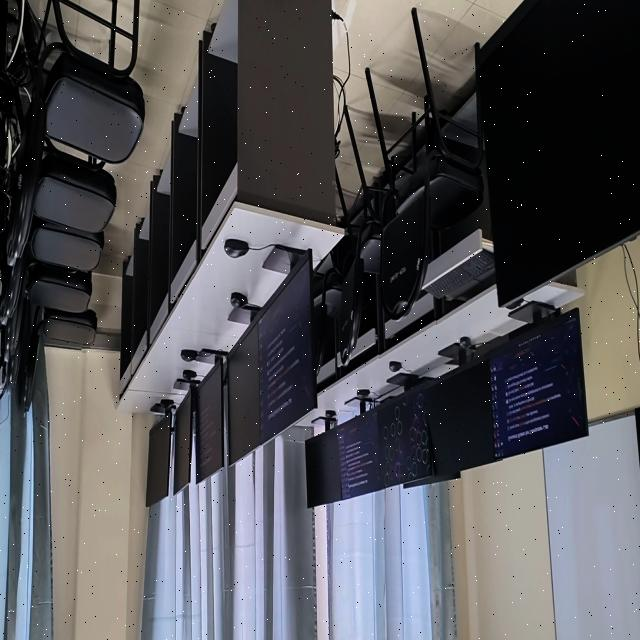Chair: (7, 0, 145, 264), (366, 9, 483, 319), (331, 107, 381, 365), (1, 262, 91, 389), (34, 140, 116, 232), (30, 217, 104, 271), (33, 307, 97, 347)
Keyboard: (424, 250, 494, 298)
Monitor: (476, 0, 640, 306), (488, 309, 588, 460), (255, 250, 316, 442), (419, 360, 496, 479), (376, 391, 432, 489), (229, 322, 264, 464), (336, 412, 384, 500), (196, 359, 224, 483), (305, 426, 342, 508), (174, 381, 196, 494), (146, 413, 172, 507)
Mouse: (224, 240, 249, 259), (357, 390, 370, 414), (183, 370, 200, 386), (230, 293, 247, 308), (324, 412, 336, 431), (180, 350, 198, 362), (389, 361, 402, 373), (460, 337, 471, 350)
